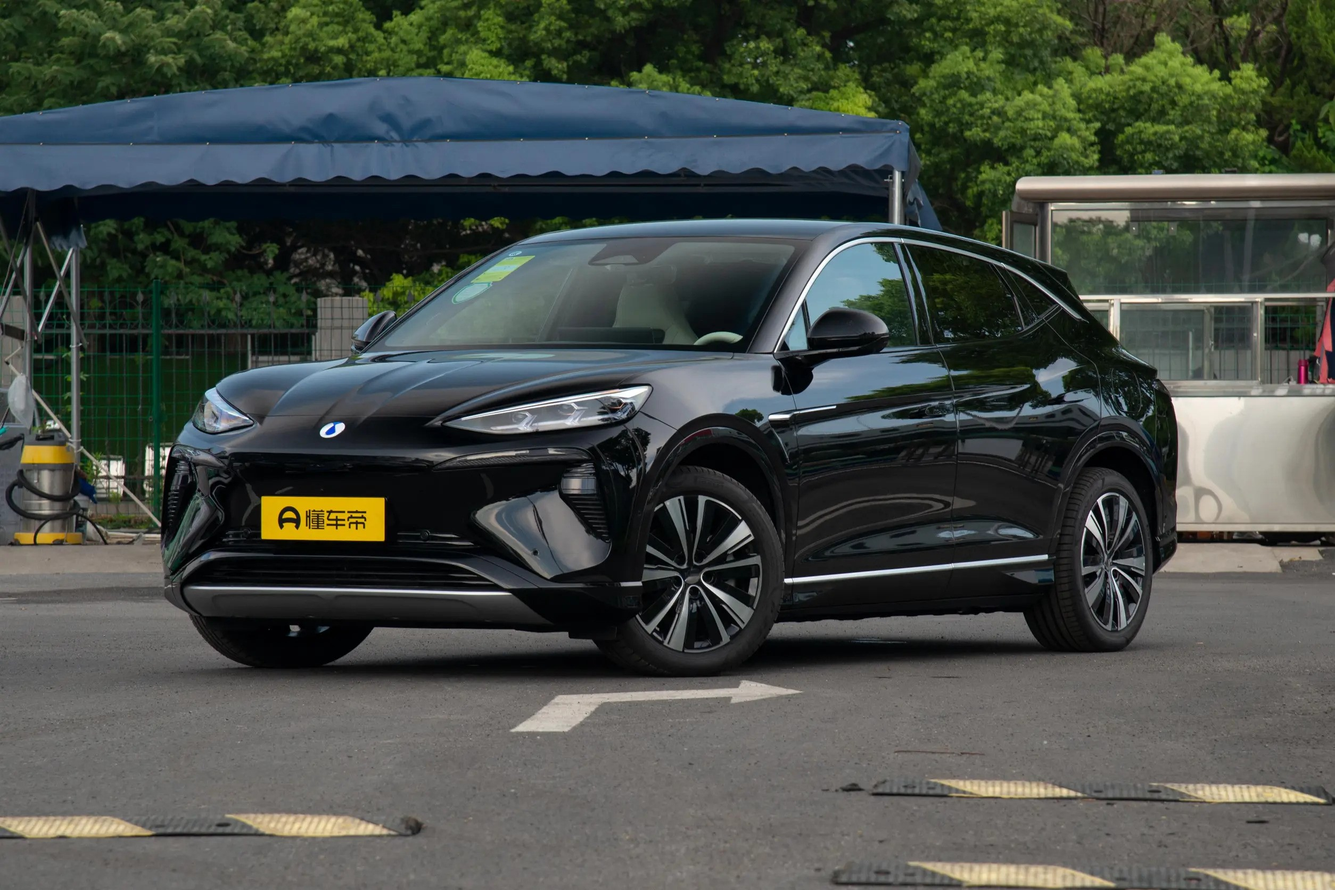DENZA: (320, 422, 345, 437)
